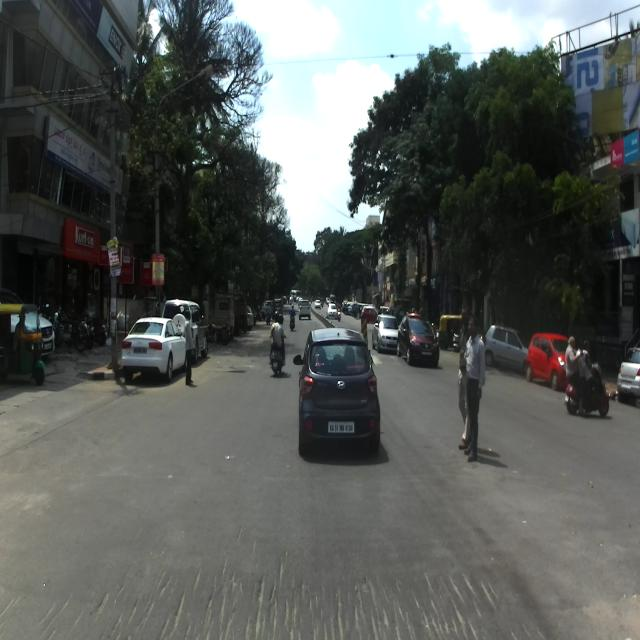car ahead at: (294, 326, 382, 471), (125, 311, 182, 382)
electric pole ahead at: (102, 74, 121, 373)
